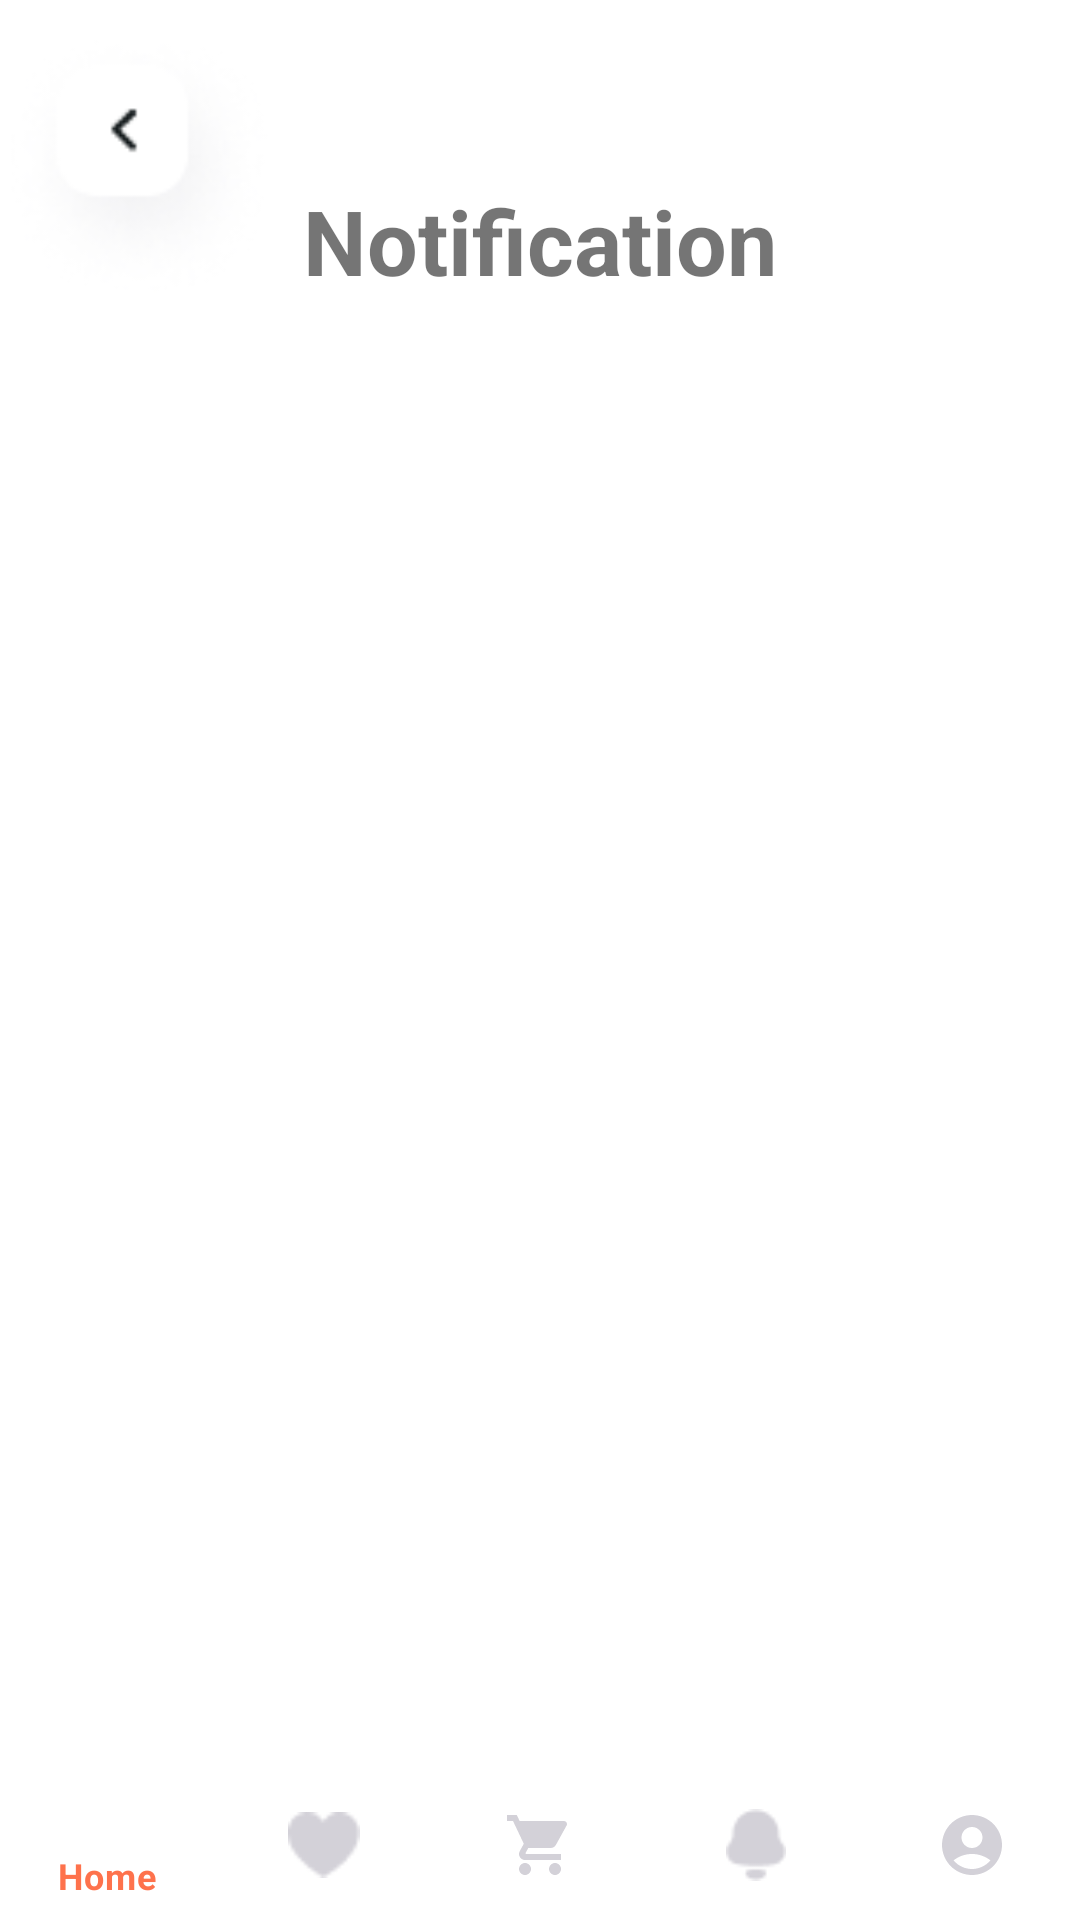

Icon bounding boxes for this 1080×1920 phone screenshot, format detection(x1, y1, x2, y2):
back: detection(110, 108, 137, 152)
